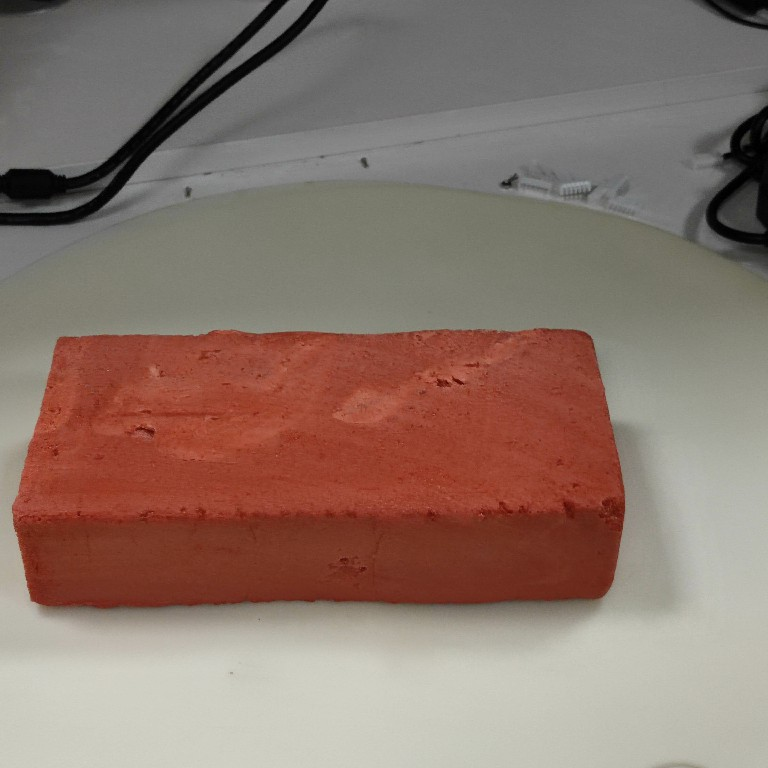brick: (10, 326, 633, 620)
